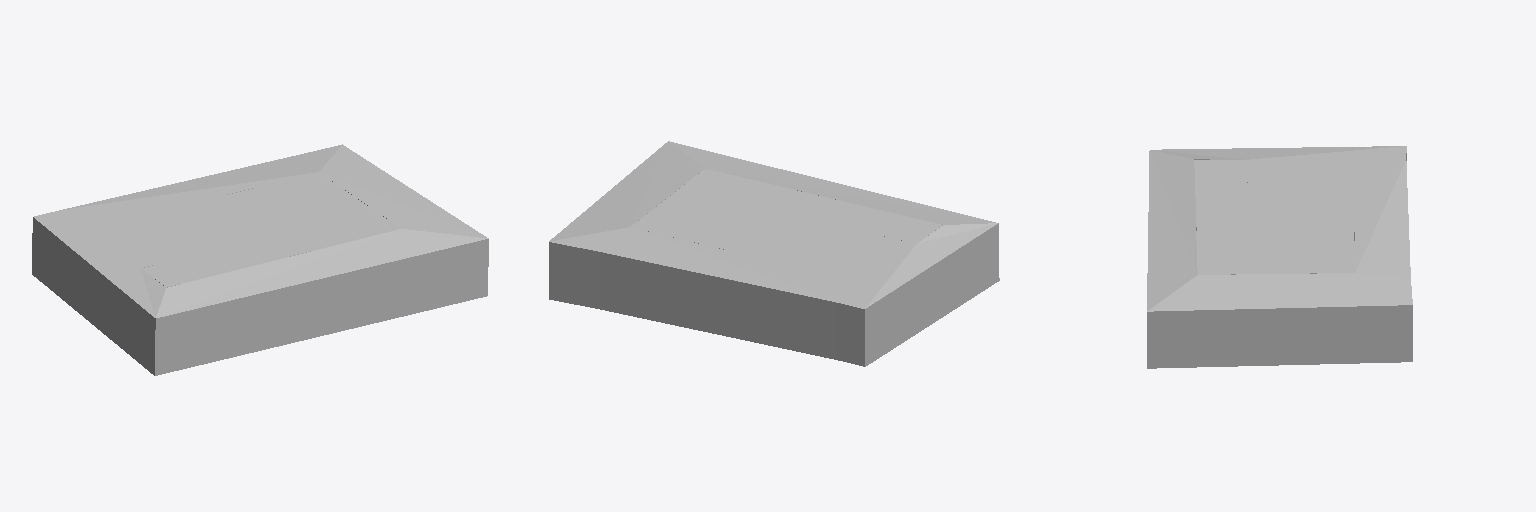
Rendered from room_areas_old_tpc.obj.
3 views of the same model, side by side, from view 1: azimuth 30°, elevation 25°; view 2: azimuth 150°, elevation 25°; view 3: azimuth 270°, elevation 25° (orthographic).
Parts seen in each view (by area): view 1: outside, dining, bathroom, hallway, kitchen, livingroom, bedroom; view 2: outside, dining, bathroom, hallway, kitchen, livingroom, bedroom; view 3: outside, dining, bathroom, hallway, kitchen, livingroom, bedroom.
Boxes of the visible parts, box(x1,y1,x2,y2) form: outside: box(32, 144, 488, 375); dining: box(269, 198, 400, 250); bathroom: box(141, 232, 310, 287); hallway: box(89, 220, 284, 267); kitchen: box(230, 172, 355, 219); livingroom: box(111, 204, 225, 249); bedroom: box(191, 194, 267, 229); outside: box(549, 141, 999, 366); dining: box(664, 169, 794, 221); bathroom: box(769, 190, 942, 243); hallway: box(754, 210, 915, 282); kitchen: box(631, 201, 751, 248); livingroom: box(760, 232, 875, 276); bedroom: box(720, 222, 794, 257); outside: box(1147, 146, 1412, 368); dining: box(1196, 231, 1283, 274); bathroom: box(1194, 160, 1248, 230); hallway: box(1247, 160, 1353, 230); kitchen: box(1283, 229, 1354, 273); livingroom: box(1282, 171, 1353, 209); bedroom: box(1282, 210, 1353, 230).
Size of the model in its own units: 18.51 by 3.4 by 12.83.